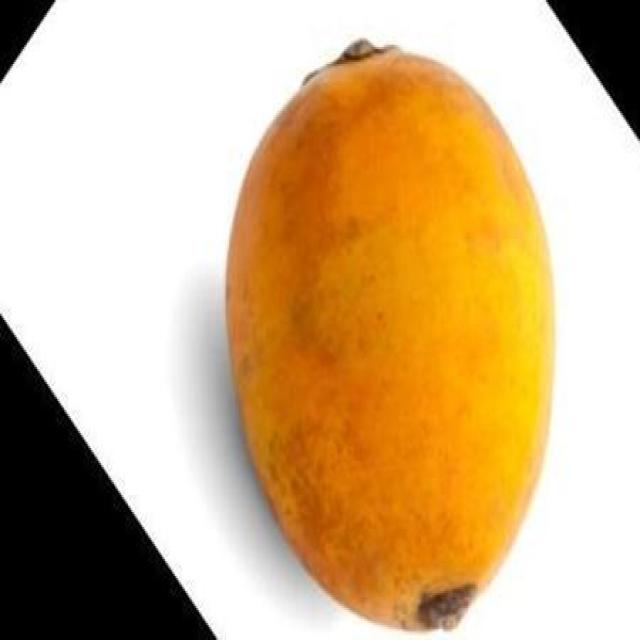good: (222, 41, 559, 634)
